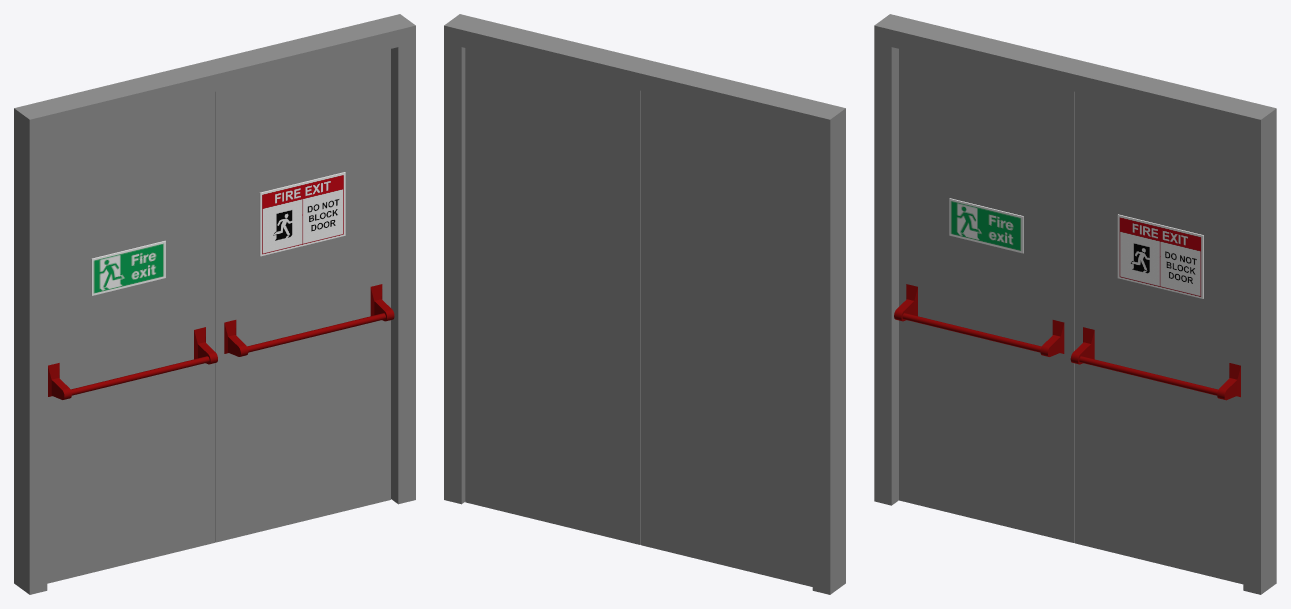
The model's file is Emergency door.fbx.
3 views of the same model, side by side, from view 1: azimuth 30°, elevation 25°; view 2: azimuth 150°, elevation 25°; view 3: azimuth 330°, elevation 25° (orthographic).
Parts seen in each view (by area): view 1: Door A, Door B, door frame; view 2: Door A, Door B, door frame; view 3: Door B, Door A, door frame.
Boxes of the visible parts, box(x1,y1,x2,y2) form: Door A: box(215, 49, 394, 542); Door B: box(47, 91, 217, 583); door frame: box(14, 14, 415, 594); Door A: box(465, 48, 640, 544); Door B: box(641, 91, 812, 586); door frame: box(444, 14, 845, 594); Door B: box(894, 49, 1074, 542); Door A: box(1070, 92, 1243, 584); door frame: box(874, 14, 1276, 594).
Size of the model in its own units: 214 by 252 by 22.35.
Materials: 3 (2 with a texture image).
